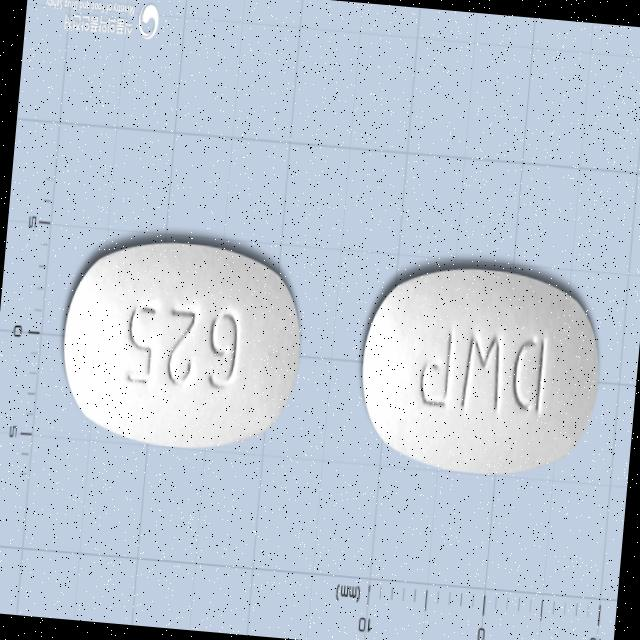Amoxicle: (348, 252, 610, 488), (53, 234, 307, 460)
